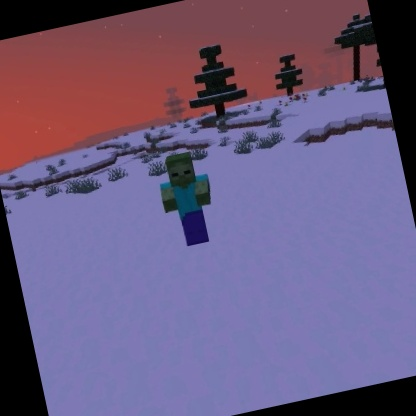zombie: (150, 144, 224, 253)
